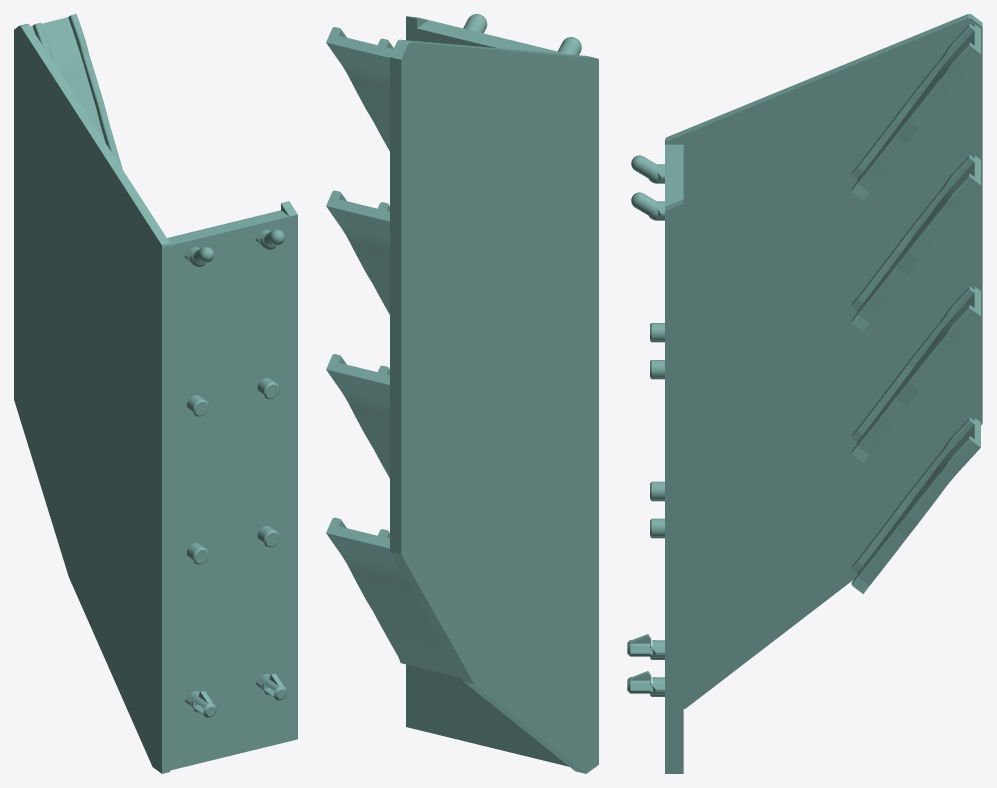
File: part-solder-modules-tweezers__v10__compact-right-cheek__fit-9328ccc5d4__empty.glb
3 views of the same model, side by side, from view 1: azimuth 30°, elevation 25°; view 2: azimuth 150°, elevation 25°; view 3: azimuth 270°, elevation 25° (orthographic). The views are drawn at different scales.
Parts seen in each view (by area): view 1: holder; view 2: holder; view 3: holder.
Part boxes in pixels (x1,y1,x2,y2): holder: [14, 14, 297, 773]; holder: [326, 14, 598, 773]; holder: [627, 14, 982, 773].
Size of the model in its own units: 0.0488 by 0.221 by 0.103.
